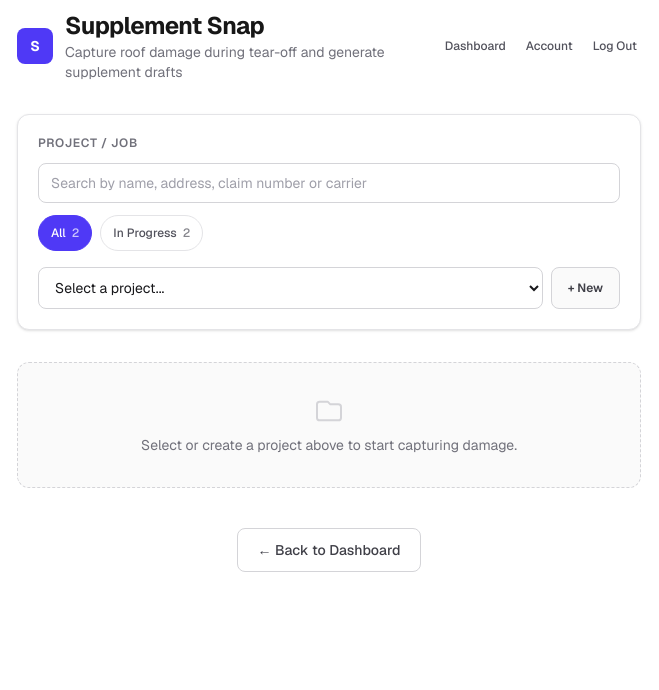
dashboard smoke test (stand-in database) › the label becomes 'Saved' only once the database confirms the write
Select "Garcia Roof (In Progress)" in the dropdown labelled "Project / Job" at point(290, 288), box x1=38 y1=267 x2=543 y2=309
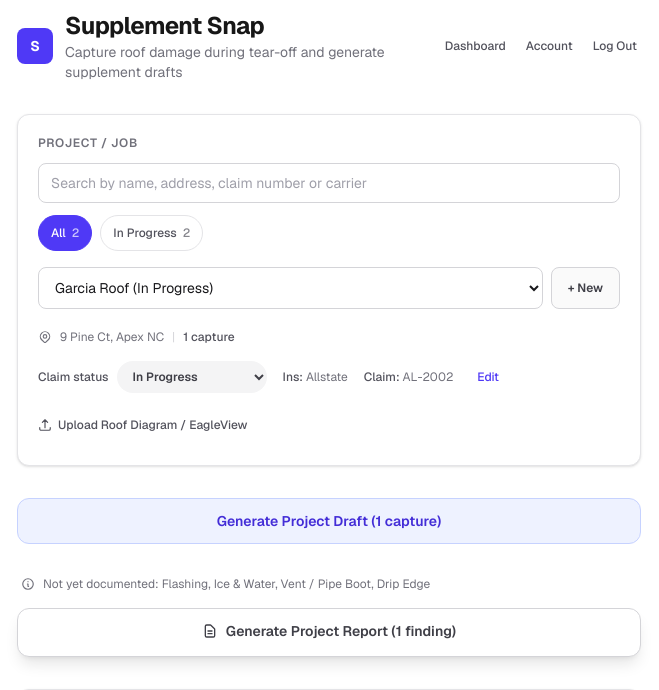
Click the button "Generate Project Draft (1 capture)" at point(329, 521), box x1=17 y1=498 x2=641 y2=544
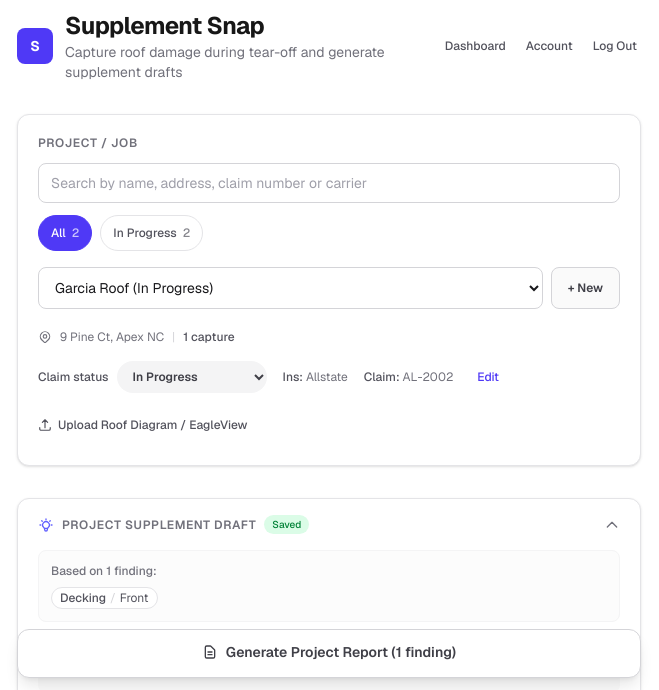
Now the text "Saved" is shown, box x1=264 y1=515 x2=309 y2=534
